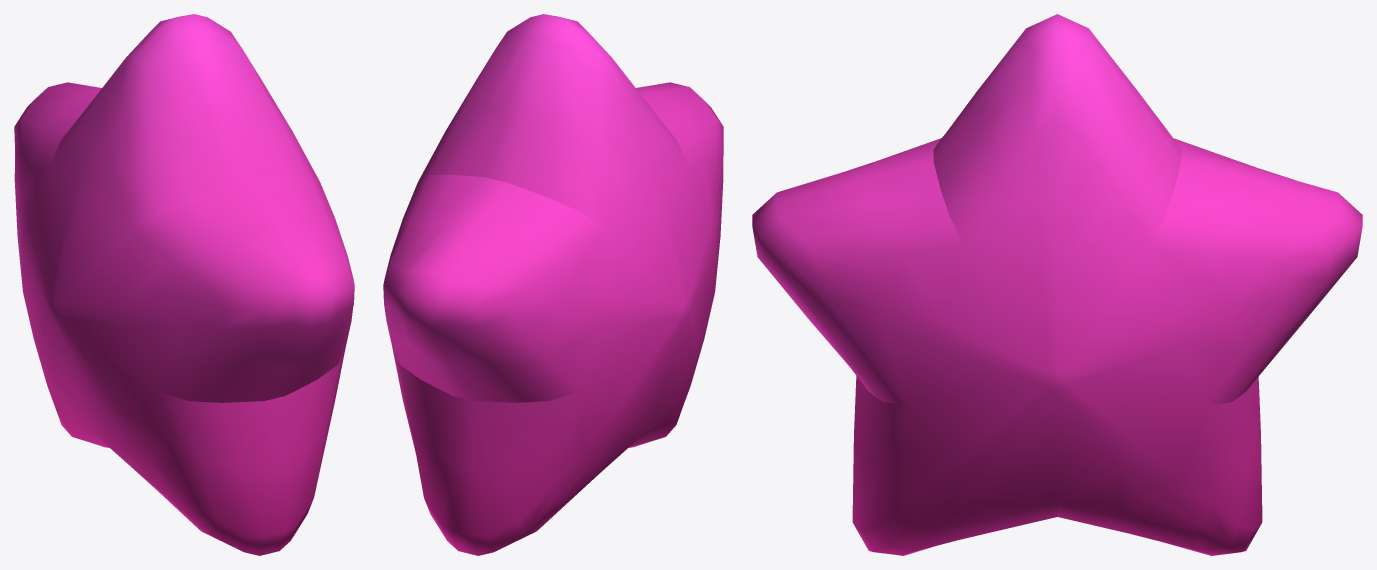
The model's file is Star_V3_00.fbx.
The picture shows the model from 3 angles, left to right: view 1: azimuth 30°, elevation 25°; view 2: azimuth 150°, elevation 25°; view 3: azimuth 270°, elevation 25°; orthographic projection. The views are drawn at different scales.
Visible parts, largest first — view 1: Star_V3_00; view 2: Star_V3_00; view 3: Star_V3_00.
Part boxes in pixels (left/top/right/bottom): Star_V3_00: left=14, top=14, right=354, bottom=555; Star_V3_00: left=383, top=14, right=723, bottom=555; Star_V3_00: left=752, top=14, right=1362, bottom=555.
Bounding box in the file's own units: 23.04 × 40.06 × 41.72.
